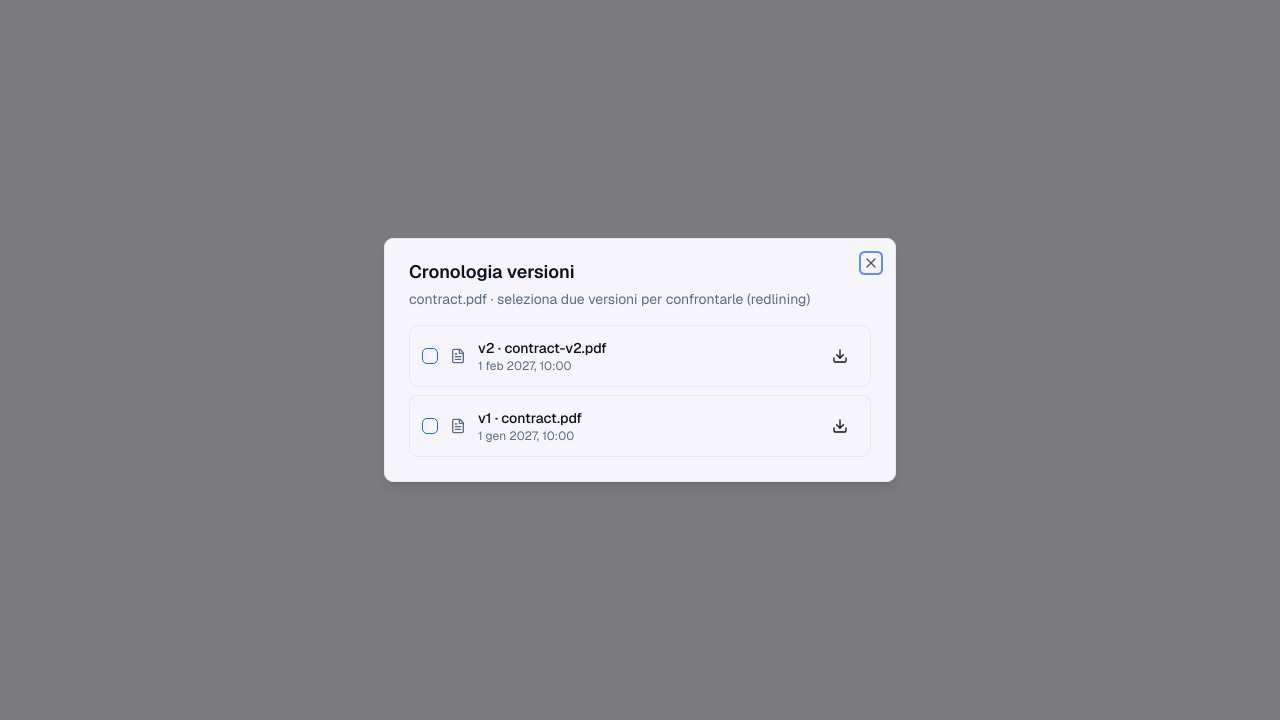
Scenario: DocumentVersionsDialog › shows a message when no differences are found
Click the checkbox named "Seleziona versione 2 per il confronto" at (430, 356), box left=422, top=348, right=438, bottom=364
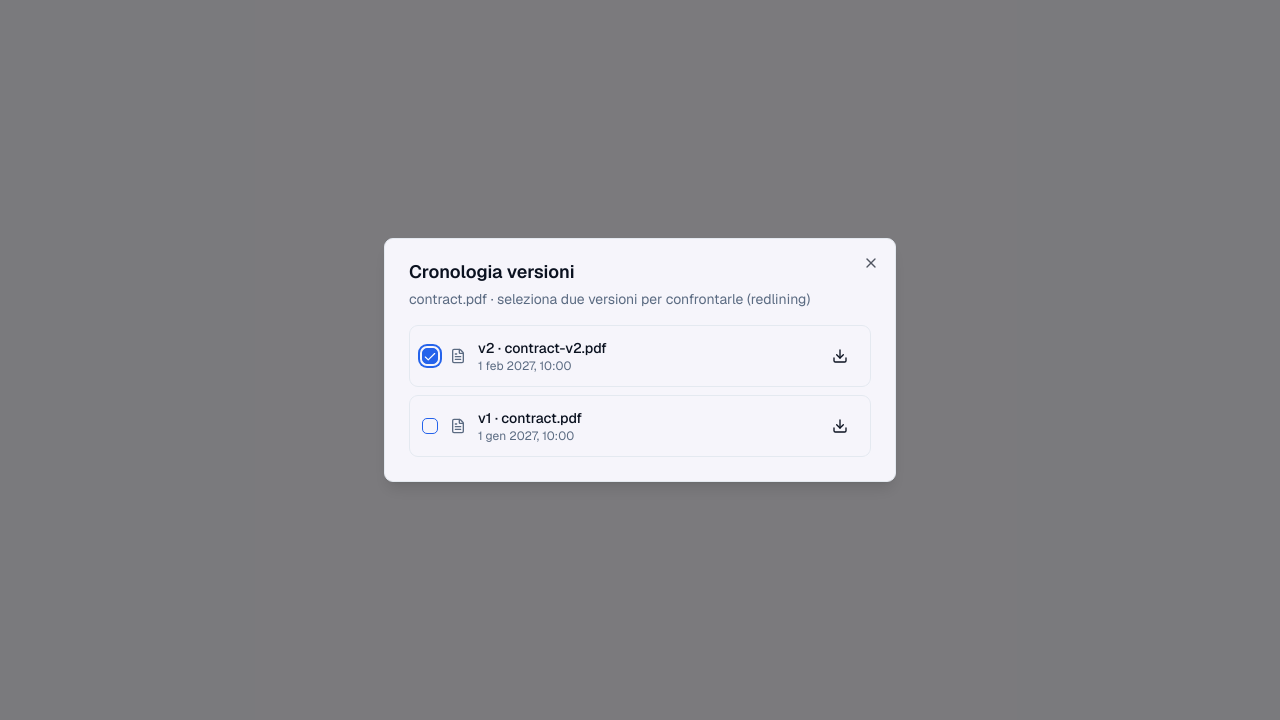
Click the checkbox named "Seleziona versione 1 per il confronto" at (430, 426), box left=422, top=418, right=438, bottom=434
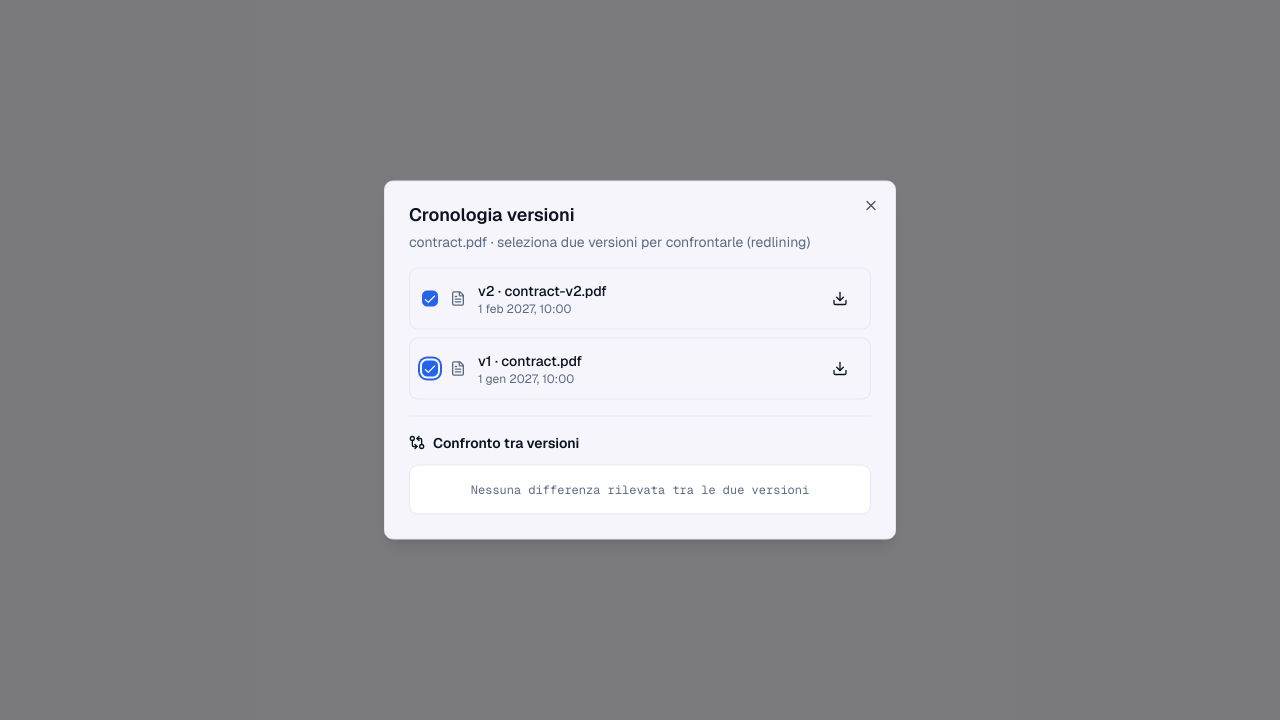
Now the text "Nessuna differenza rilevata tra le due versioni" is shown, box left=471, top=482, right=809, bottom=498
